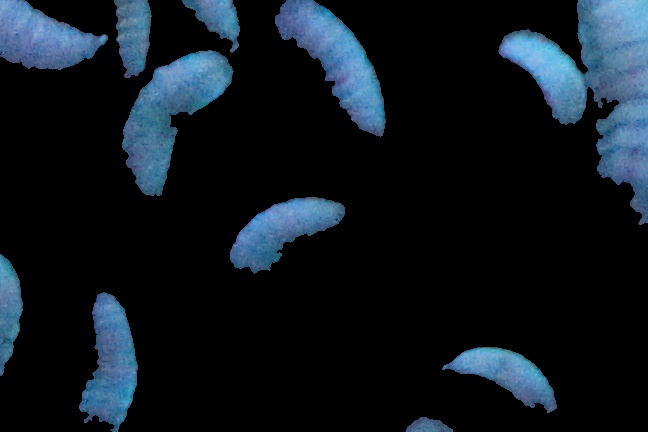larvae: (565, 1, 648, 233), (273, 1, 392, 142), (124, 47, 231, 198), (228, 193, 348, 281), (444, 335, 557, 417), (498, 30, 587, 123), (78, 291, 139, 423), (1, 1, 107, 74), (109, 1, 153, 82), (177, 1, 241, 53)
